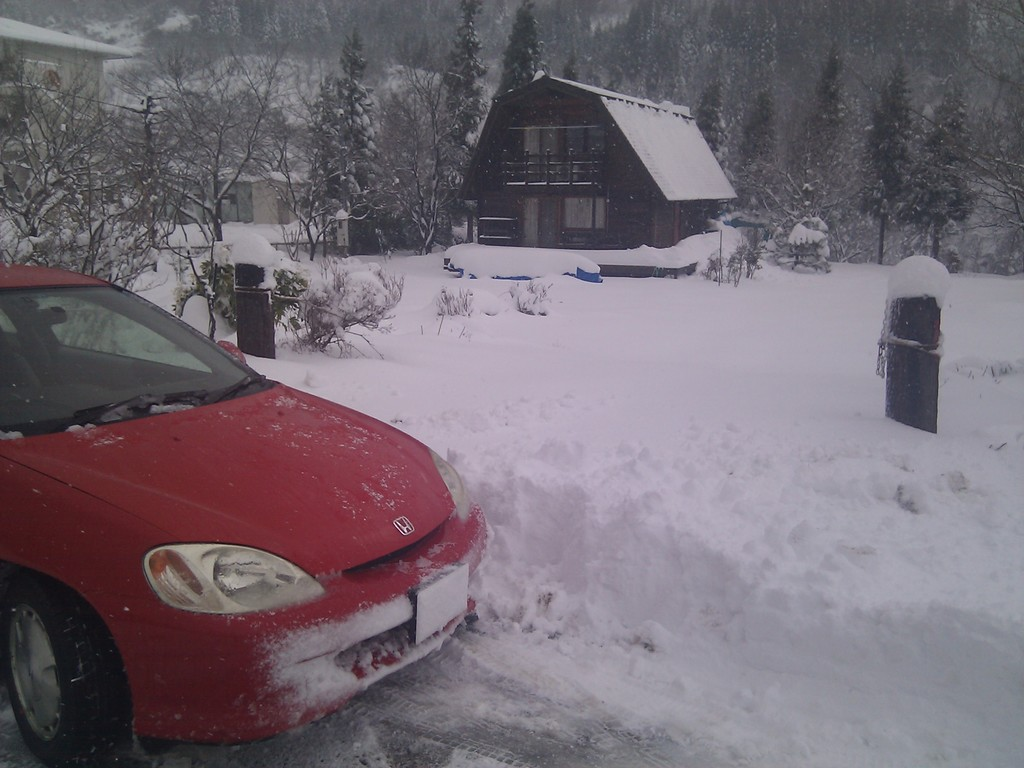Car: (0, 258, 487, 767)
